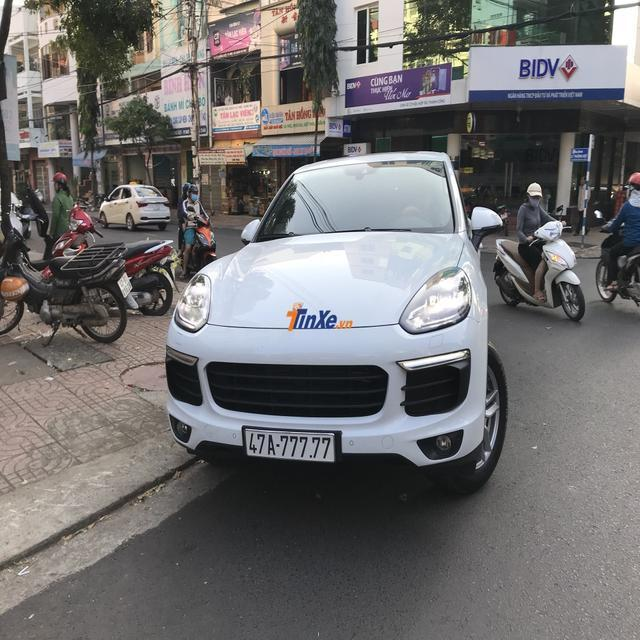car: (168, 145, 486, 488), (96, 178, 179, 234)
motorcycle: (35, 225, 133, 349), (494, 224, 588, 325), (592, 220, 640, 326), (173, 208, 216, 282)
plate: (236, 422, 340, 467)
